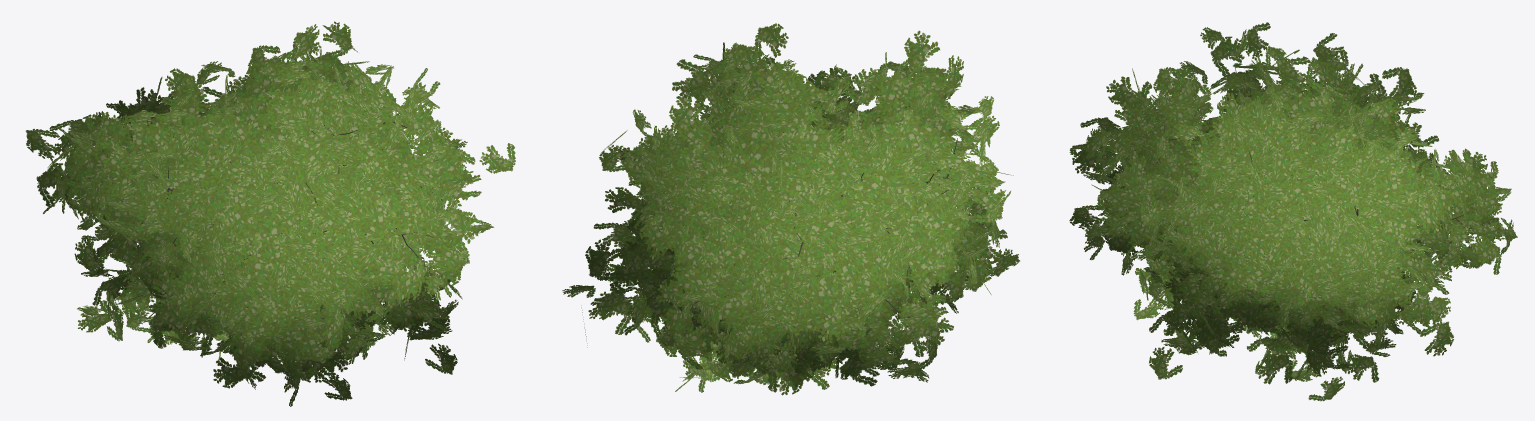
File: KO1_KermesOak_LowThicket_1m.glb
The picture shows the model from 3 angles, left to right: view 1: azimuth 30°, elevation 25°; view 2: azimuth 150°, elevation 25°; view 3: azimuth 270°, elevation 25°; orthographic projection. The views are drawn at different scales.
Parts seen in each view (by area): view 1: KO1_leaves; view 2: KO1_leaves; view 3: KO1_leaves.
Part boxes in pixels (left/top/right/bottom): KO1_leaves: left=25, top=21, right=515, bottom=406; KO1_leaves: left=562, top=23, right=1019, bottom=395; KO1_leaves: left=1069, top=22, right=1517, bottom=401.
Size of the model in its own units: 1.49 by 1.17 by 1.69.
Materials: 2 (2 with a texture image).
